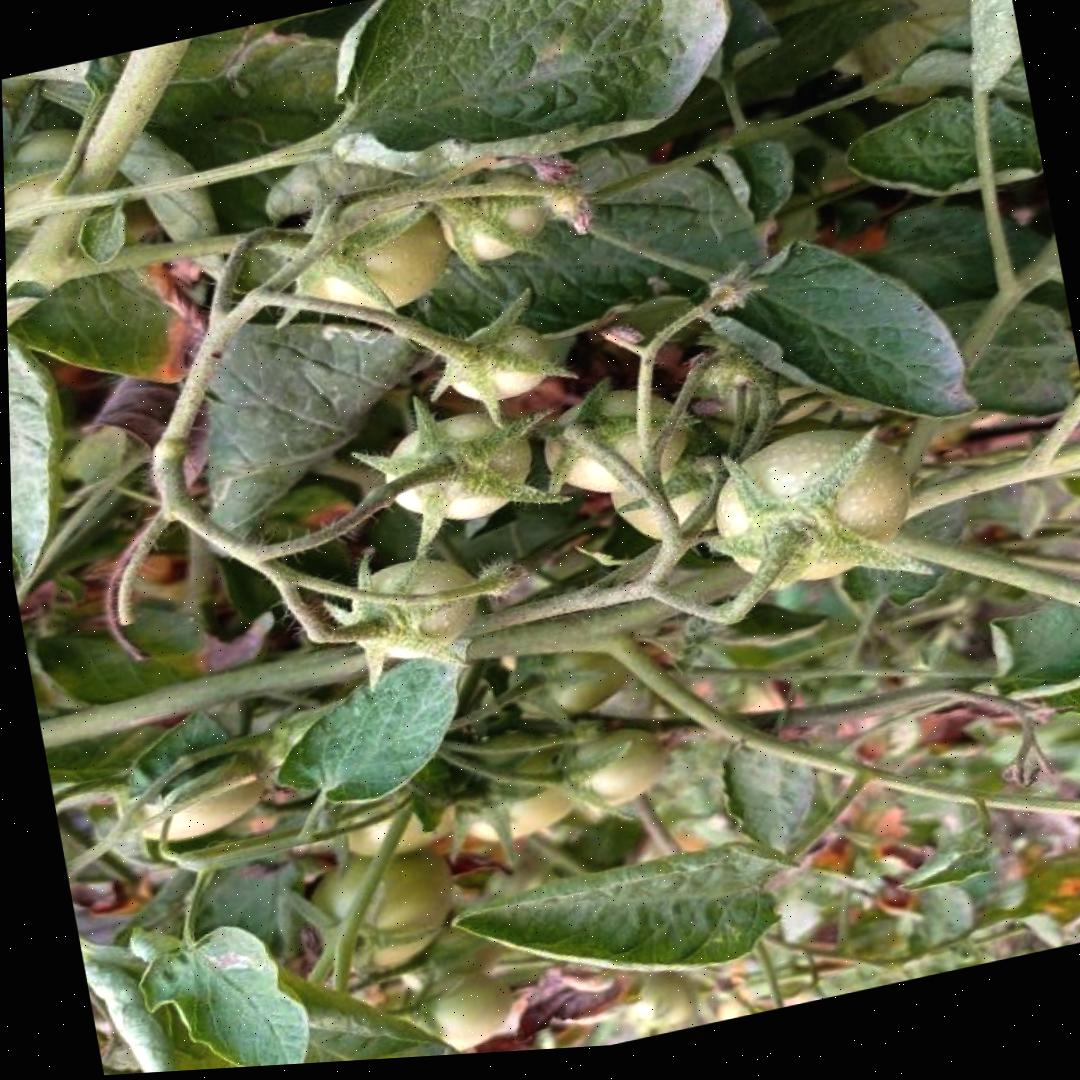mentah: (702, 410, 925, 600), (282, 185, 461, 332), (533, 373, 701, 511), (374, 401, 541, 538), (340, 545, 488, 672), (432, 161, 561, 273), (437, 309, 560, 413), (554, 717, 671, 819)
